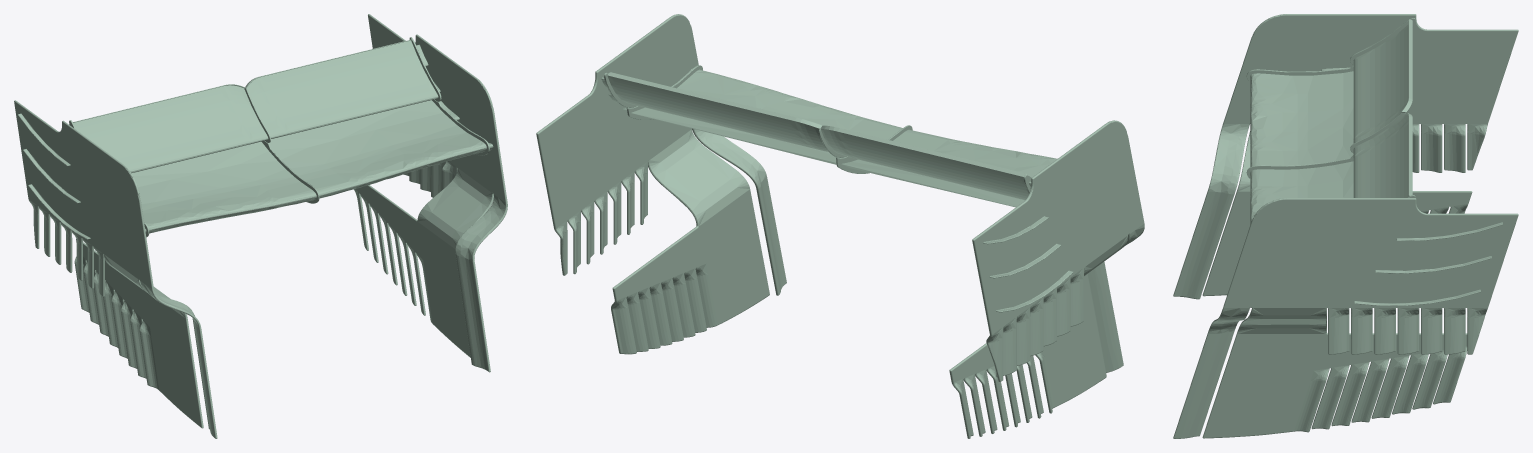
File: aileron-F1-2019.glb
3 views of the same model, side by side, from view 1: azimuth 30°, elevation 25°; view 2: azimuth 150°, elevation 25°; view 3: azimuth 270°, elevation 25° (orthographic). The views are drawn at different scales.
Parts seen in each view (by area): view 1: world; view 2: world; view 3: world.
Part boxes in pixels (<box>): world: <box>14,14,507,438</box>; world: <box>536,14,1144,438</box>; world: <box>1173,14,1518,438</box>.
Bounding box in the file's own units: 1.04 × 0.6702 × 0.8023.
